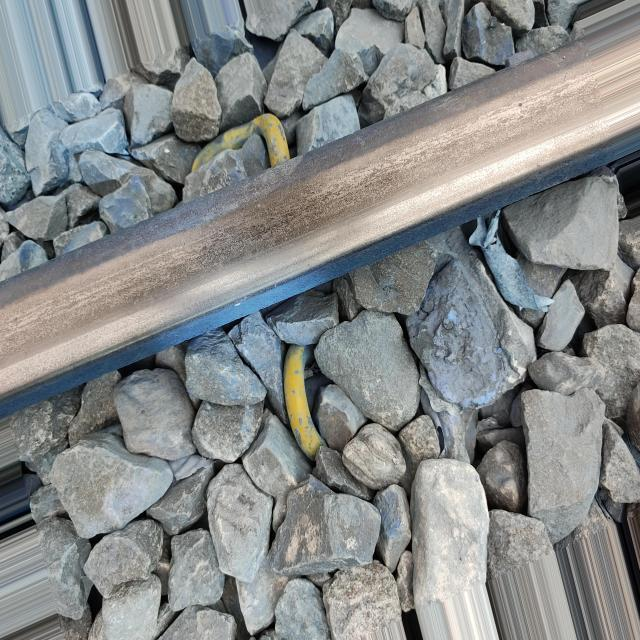Good Fasteners: (192, 113, 290, 171), (284, 345, 321, 460)
